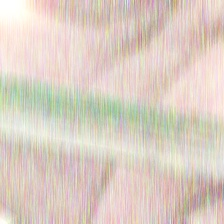Leaf_Blast: (0, 111, 192, 162)
